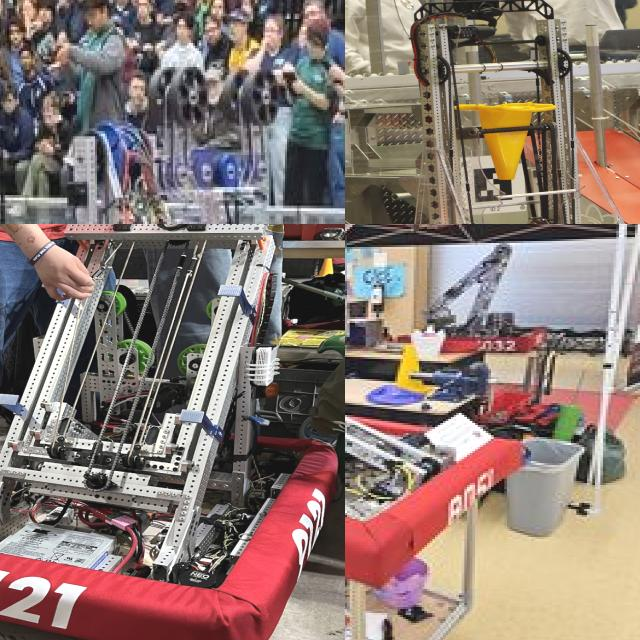FRC-Robots: (0, 235, 345, 640), (345, 224, 588, 579), (345, 0, 640, 224), (0, 138, 345, 224)
